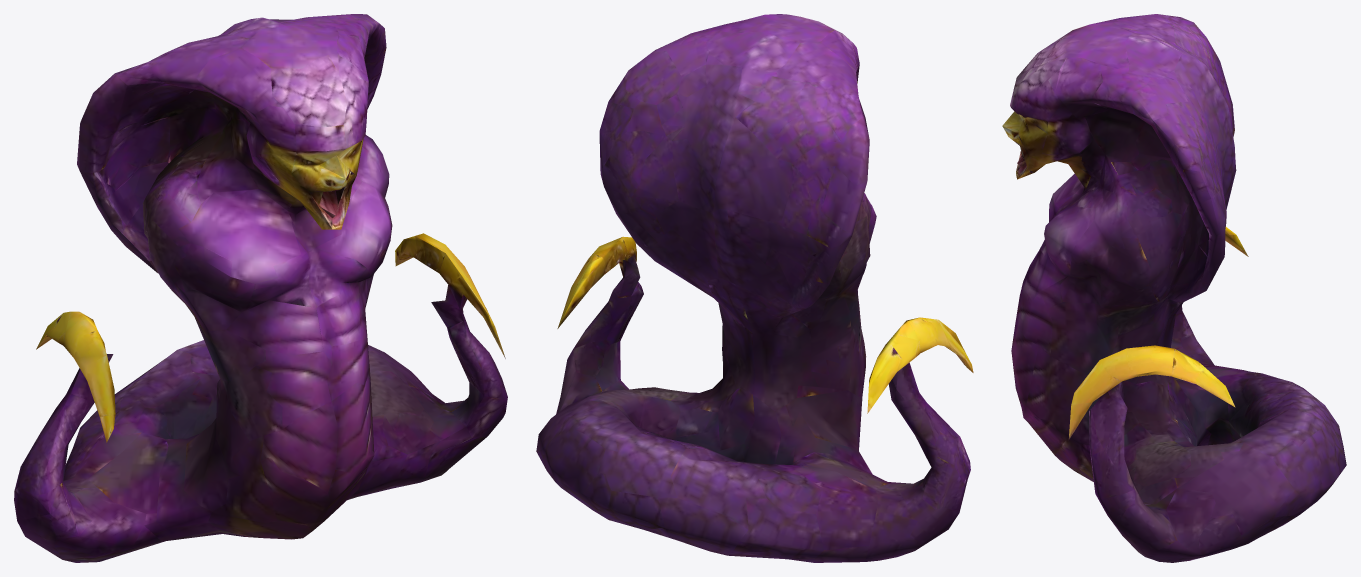
File: monster_10.glb
3 views of the same model, side by side, from view 1: azimuth 30°, elevation 25°; view 2: azimuth 150°, elevation 25°; view 3: azimuth 270°, elevation 25° (orthographic). The views are drawn at different scales.
Visible parts, largest first — view 1: Cobra_Fiend_0709102000_texture; view 2: Cobra_Fiend_0709102000_texture; view 3: Cobra_Fiend_0709102000_texture.
Boxes of the visible parts, x1,y1,x2,y2 form: Cobra_Fiend_0709102000_texture: (14,14,507,562); Cobra_Fiend_0709102000_texture: (536,14,973,562); Cobra_Fiend_0709102000_texture: (1002,14,1346,562).
Size of the model in its own units: 1.87 by 2 by 1.35.
Materials: 1 (1 with a texture image).
